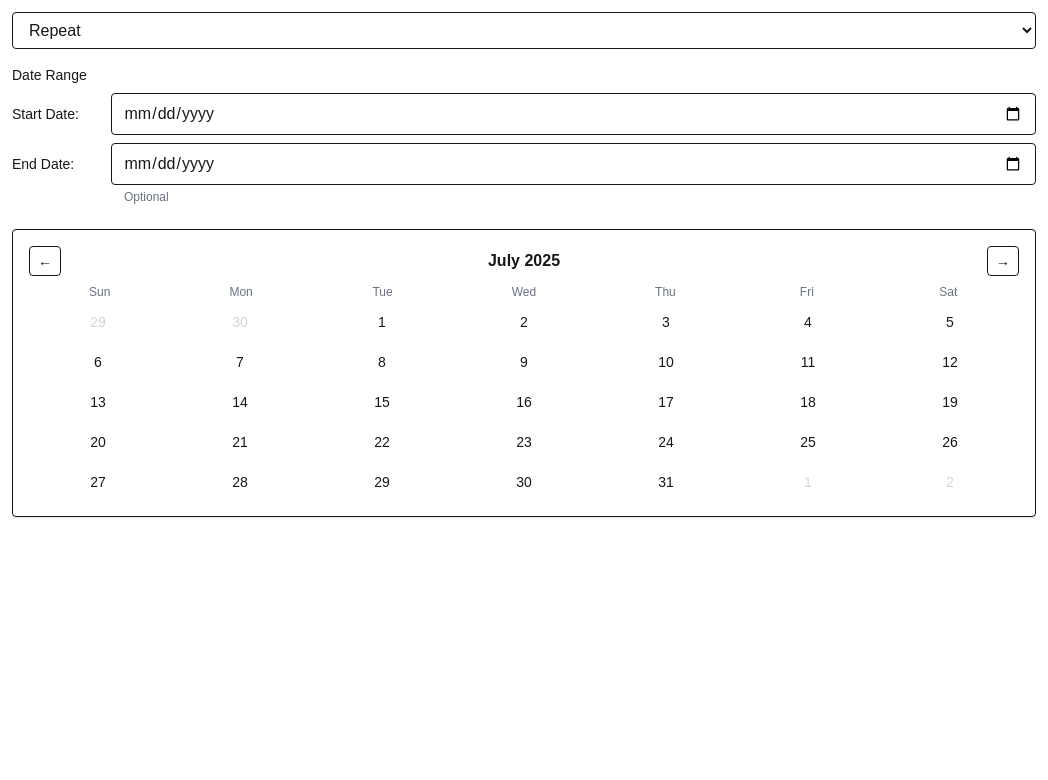
Scenario: integration: full recurrence flow works correctly
The width and height of the screenshot is (1048, 780).
// Choose recurrence type
Select "Weekly" in the dropdown: (524, 30) top-left (12, 12), bottom-right (1036, 49)
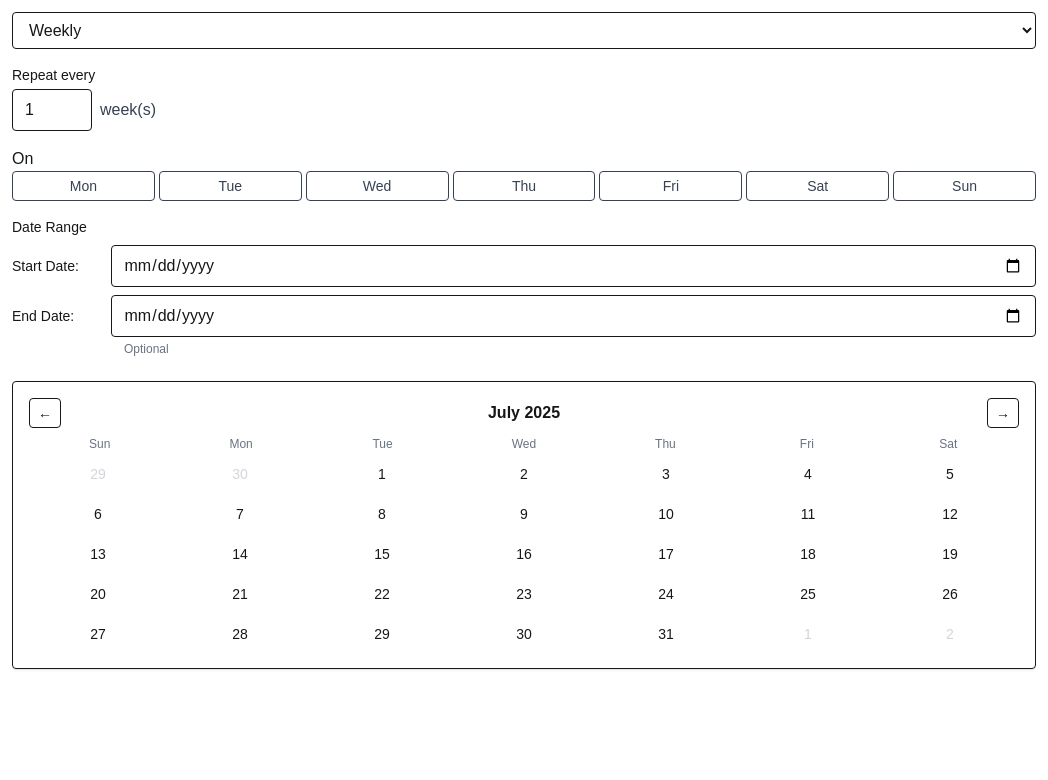
// WeekDaySelector shows and select Monday
Click the button "Mon": (83, 186) top-left (12, 171), bottom-right (155, 201)
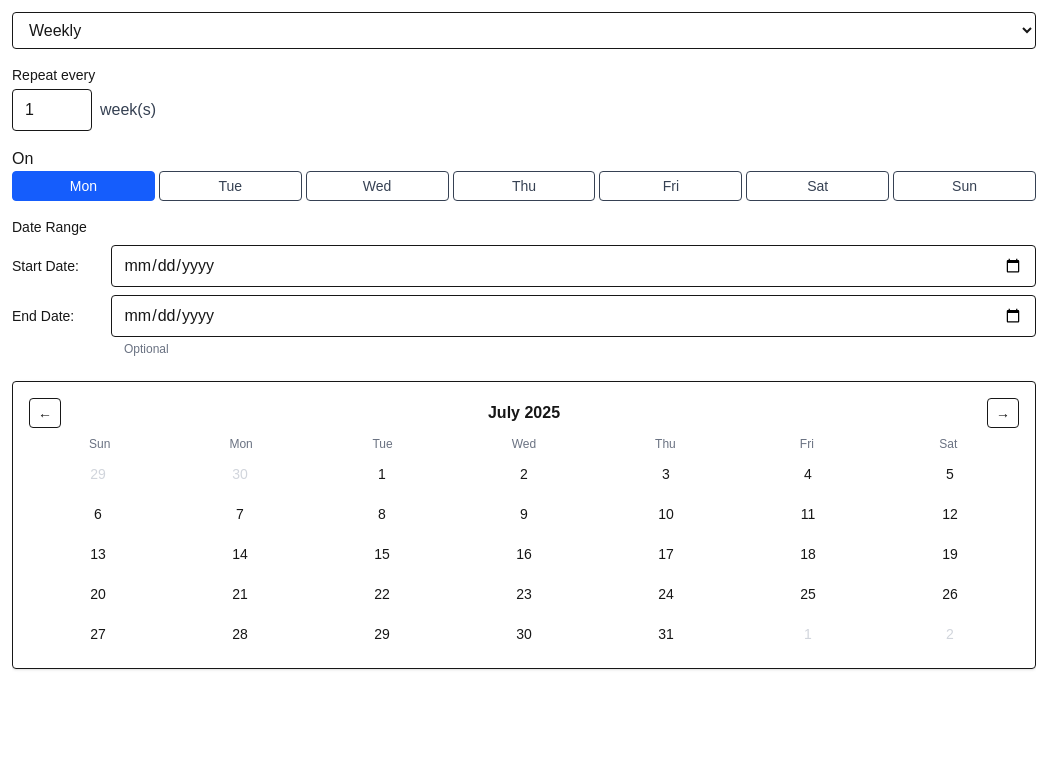
Result: the text "week(s)" is shown at top-left (100, 98), bottom-right (156, 122)
// Change start date
In the date field labelled "Start Date:": (573, 266) top-left (110, 245), bottom-right (1036, 287), type "2025-07-01"
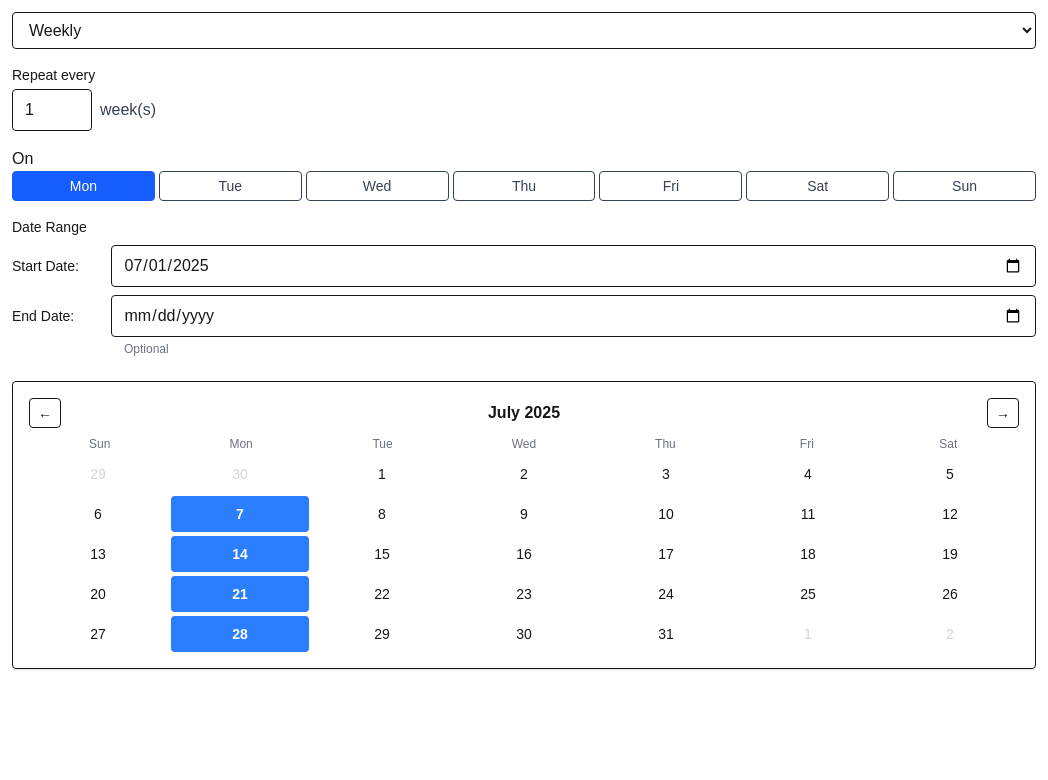
Expected: the heading "July 2025" is shown, top-left (488, 401), bottom-right (560, 425)
// Navigate calendar to next month
Click the button "→": (1003, 413) top-left (987, 398), bottom-right (1019, 428)
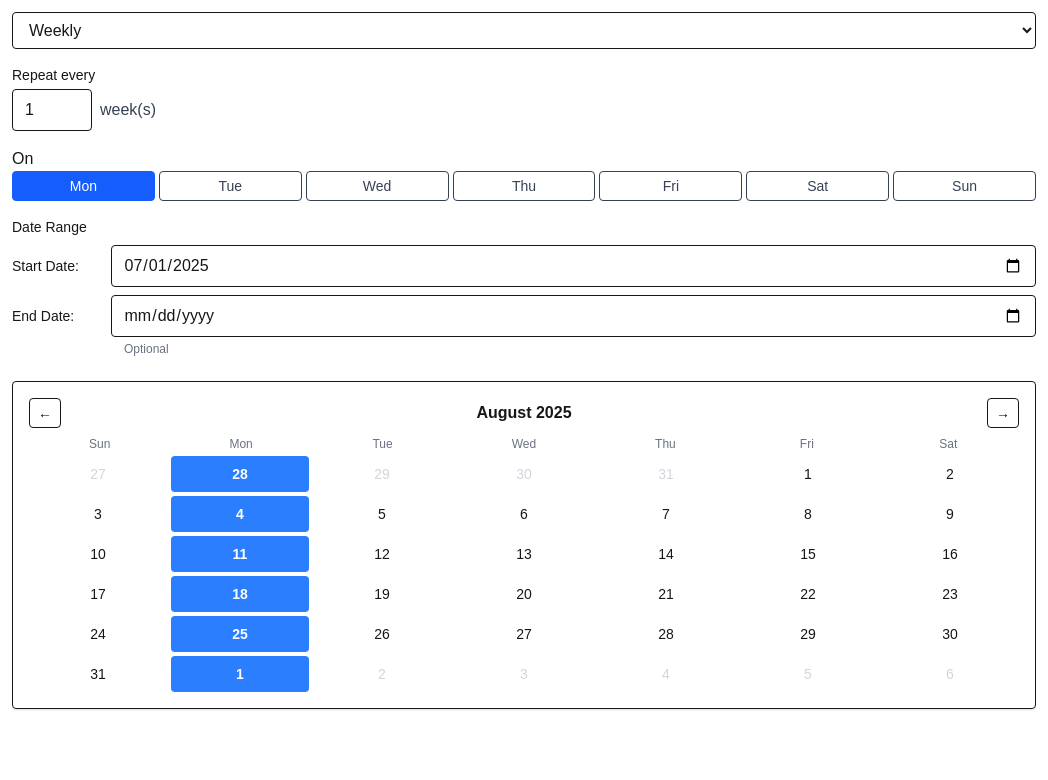
Result: the heading "August 2025" is shown at top-left (476, 401), bottom-right (572, 425)
